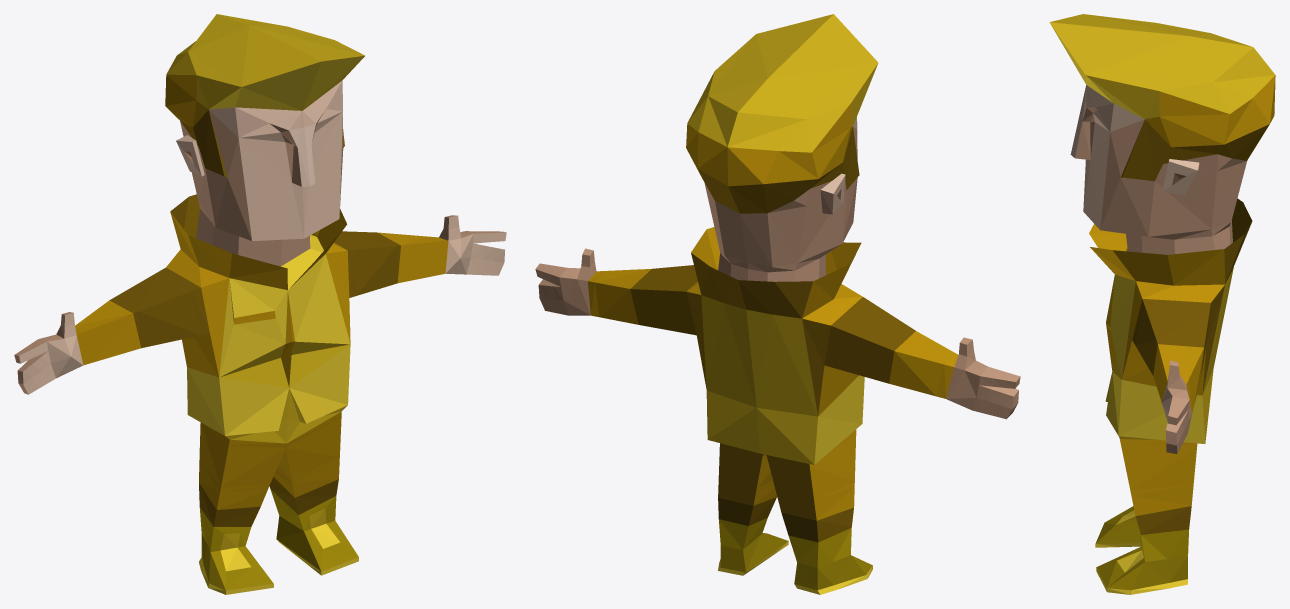
The model's file is estp.glb.
3 renders of one model, left to right at view 1: azimuth 30°, elevation 25°; view 2: azimuth 150°, elevation 25°; view 3: azimuth 270°, elevation 25°, orthographic. The views are drawn at different scales.
Visible parts, largest first — view 1: estp; view 2: estp; view 3: estp.
Part boxes in pixels (x1=…): estp: x1=14, y1=14, x2=506, y2=594; estp: x1=535, y1=14, x2=1020, y2=594; estp: x1=1049, y1=14, x2=1275, y2=594.
Bounding box in the file's own units: 9.91 × 10.33 × 3.94.
Materials: 2 (2 with a texture image).
